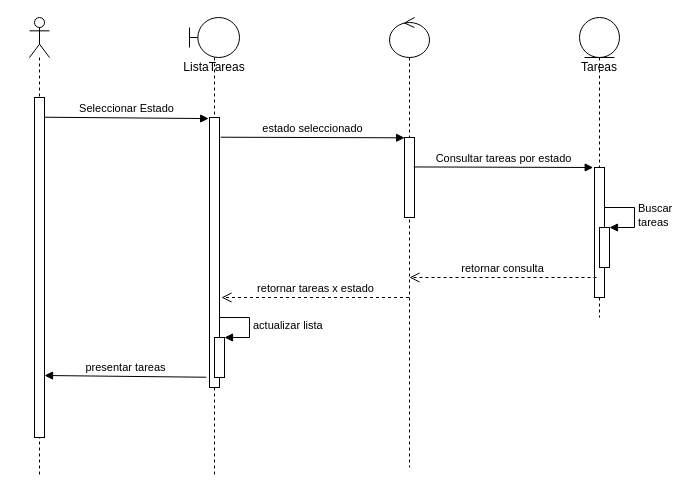
This 690x495 diagram has some shape labels left out. Here are the shapes that lost their labels. From the top down, the box of each, then its label:
(28, 16, 50, 478): Docente
(388, 16, 430, 468): OpcionControl
